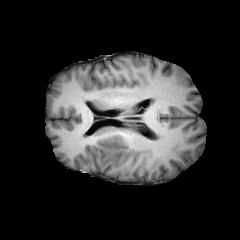glioma: (82, 133, 132, 169)
